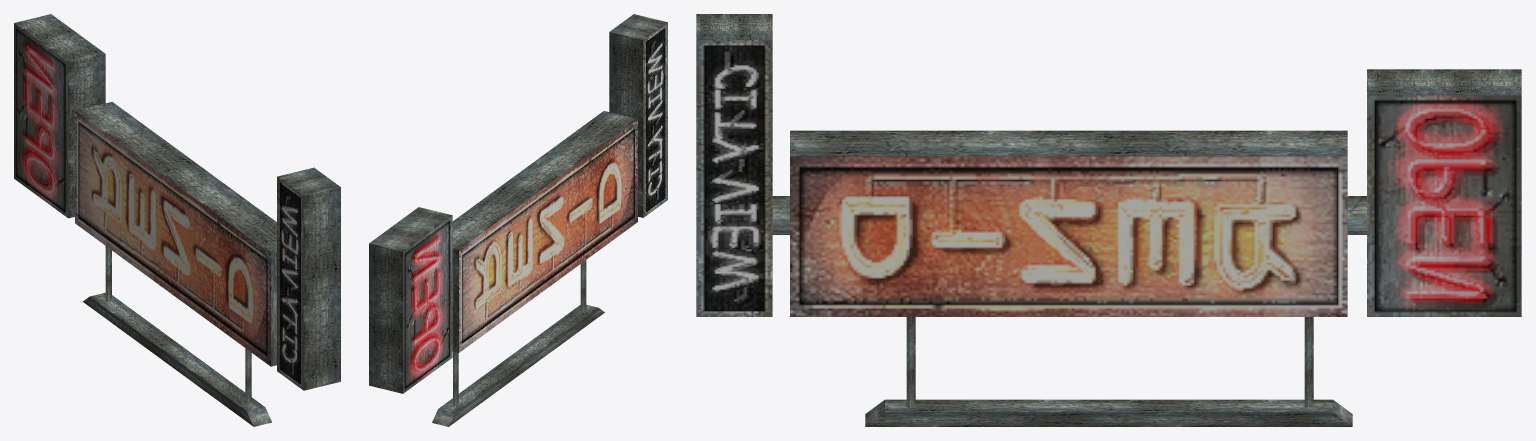
File: restaurant_diner.fbx
3 renders of one model, left to right at view 1: azimuth 30°, elevation 25°; view 2: azimuth 150°, elevation 25°; view 3: azimuth 270°, elevation 25°, orthographic. The views are drawn at different scales.
Parts seen in each view (by area): view 1: mesh_0; view 2: mesh_0; view 3: mesh_0.
Boxes of the visible parts, <box> form: mesh_0: <box>14,14,340,426</box>; mesh_0: <box>369,14,667,426</box>; mesh_0: <box>696,14,1521,426</box>.
Bounding box in the file's own units: 40 × 284 × 540.
1 material, 1 textured.
